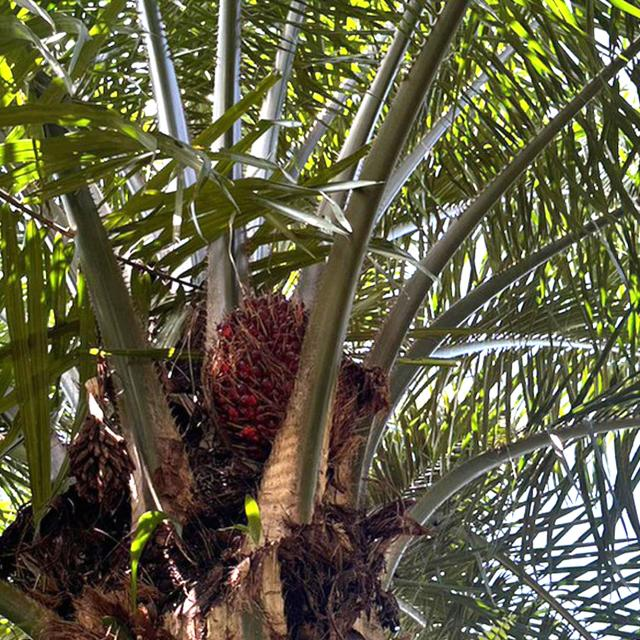ripe: (191, 272, 401, 477)
